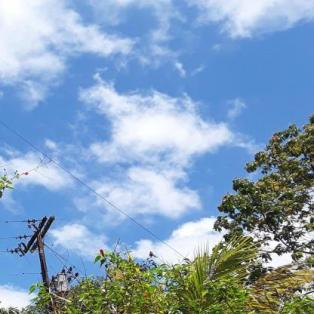Poste: (35, 227, 55, 290)
